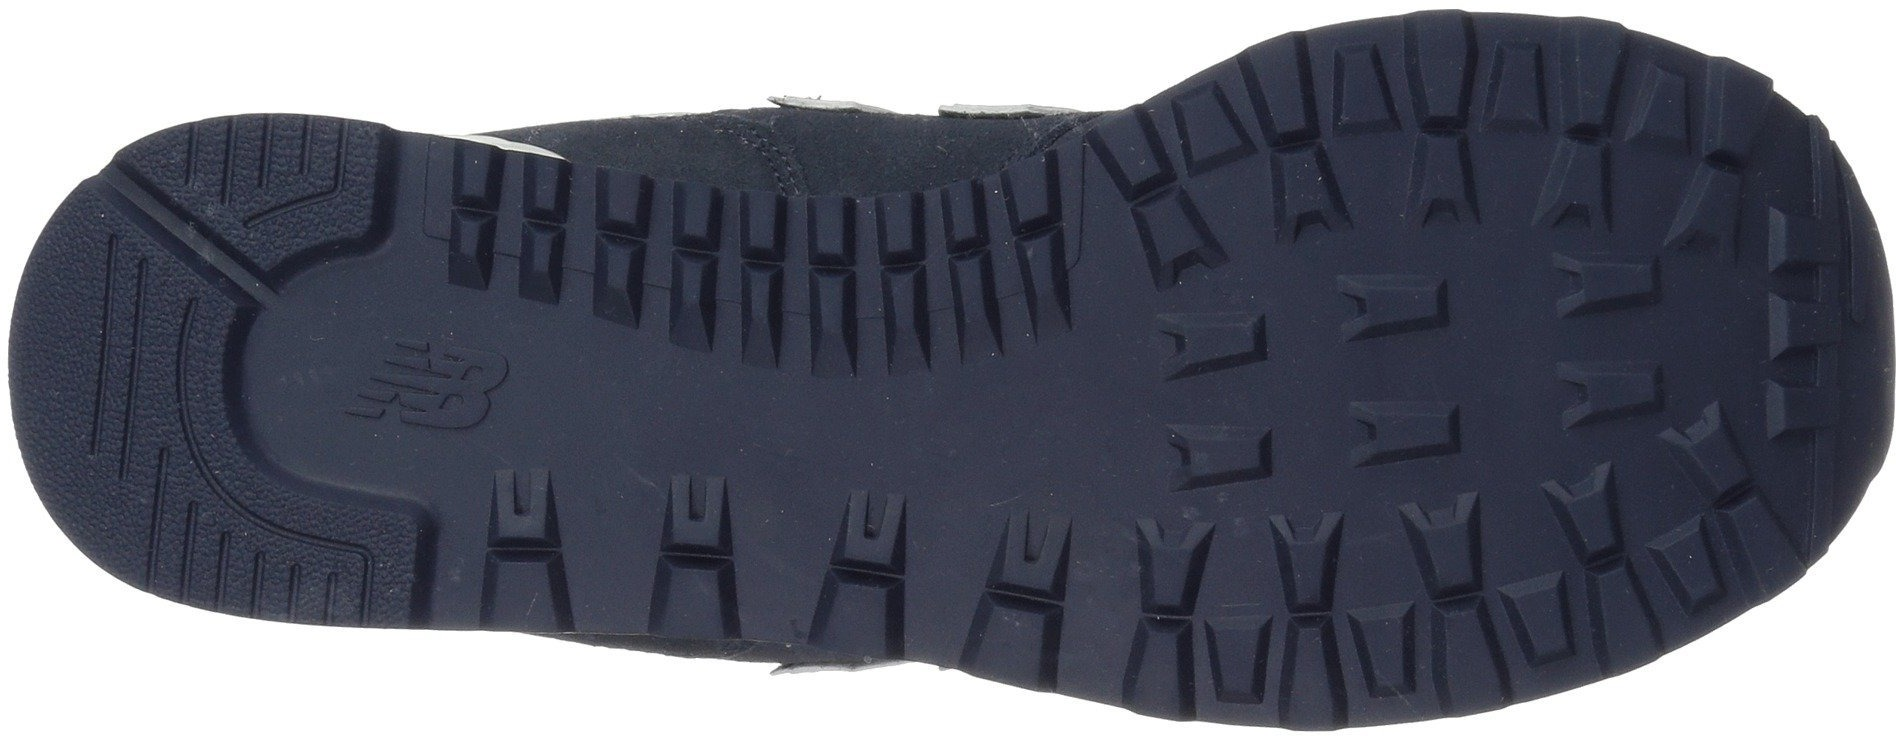line: (68, 224, 183, 497)
other: (521, 327, 705, 484), (978, 352, 1143, 522), (756, 364, 890, 486)
quad: (1733, 211, 1855, 454), (732, 208, 865, 326), (1482, 551, 1605, 671), (1463, 33, 1577, 146)
text: (372, 321, 510, 454)
